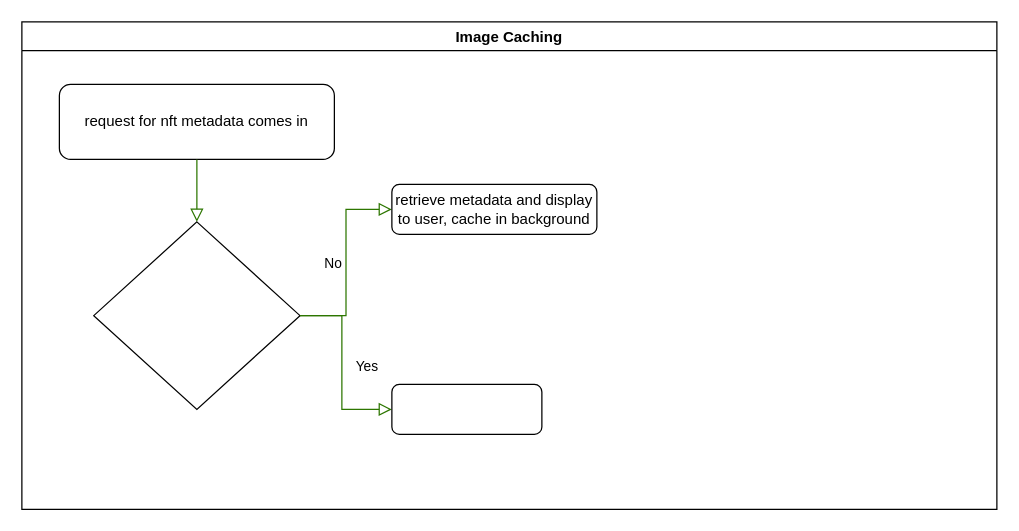
The diagram is 1019 pixels wide and 531 high, and some of its shapes have lost their labels. Here are the shapes that lost their labels. From the top down, the box of each, then its label:
(92, 221, 300, 409): check if metadata is in cache
(391, 383, 542, 434): serve from cache
